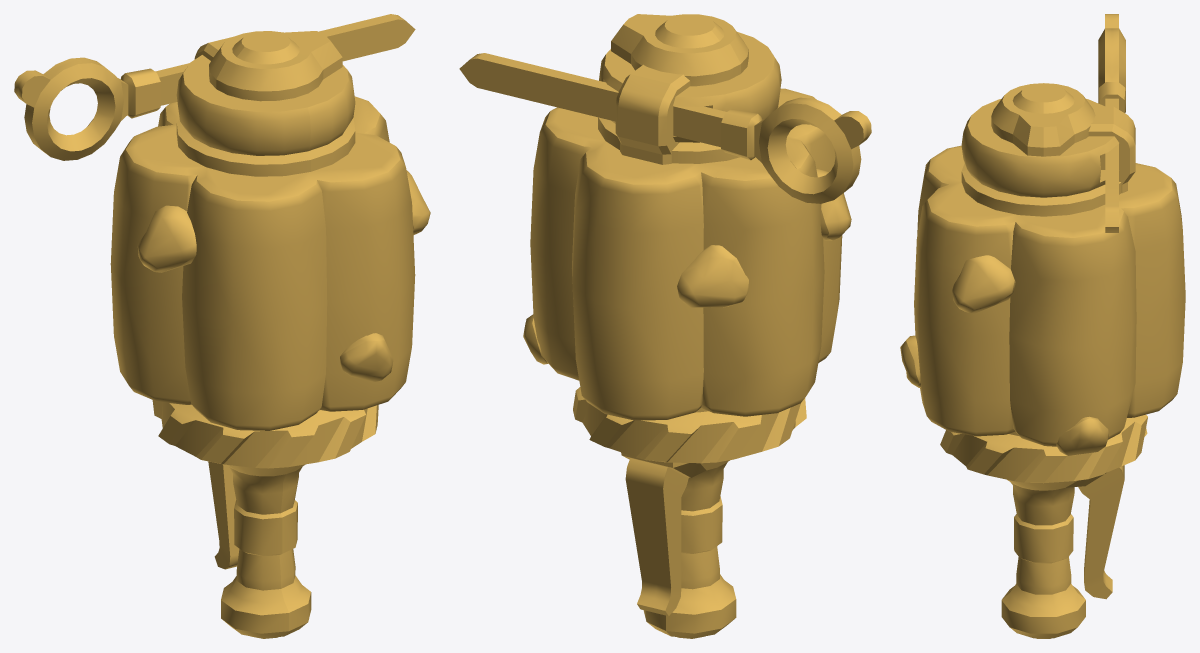
The model's file is obj_consumable_cornade.fbx.
3 views of the same model, side by side, from view 1: azimuth 30°, elevation 25°; view 2: azimuth 150°, elevation 25°; view 3: azimuth 270°, elevation 25° (orthographic). The views are drawn at different scales.
Visible parts, largest first — view 1: obj_consumable_cornade; view 2: obj_consumable_cornade; view 3: obj_consumable_cornade.
Part boxes in pixels (box(x1,y1,x2,y2)): obj_consumable_cornade: box(14, 14, 430, 638); obj_consumable_cornade: box(459, 14, 871, 638); obj_consumable_cornade: box(900, 14, 1185, 638).
Bounding box in the file's own units: 2.15 × 3.07 × 1.48.
